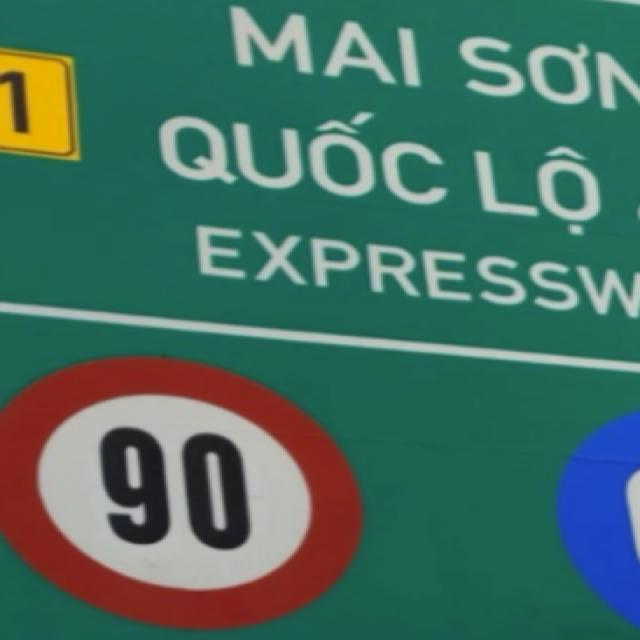Speed Limit -90-: (0, 345, 371, 639)
